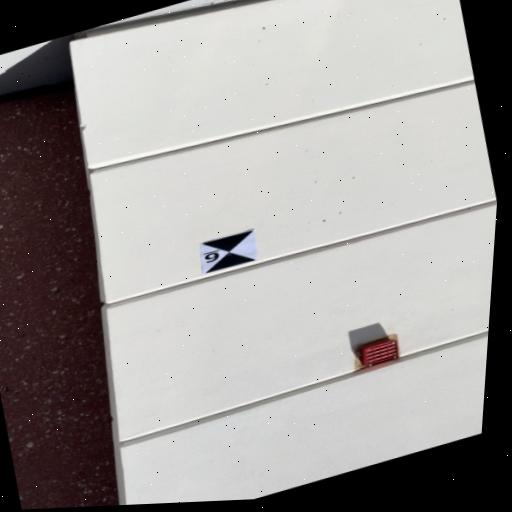target6: (201, 230, 256, 273)
